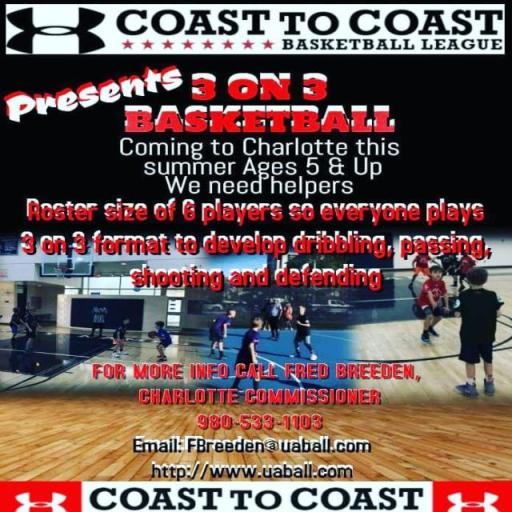Under Armour: (14, 489, 71, 512), (447, 492, 499, 512)
